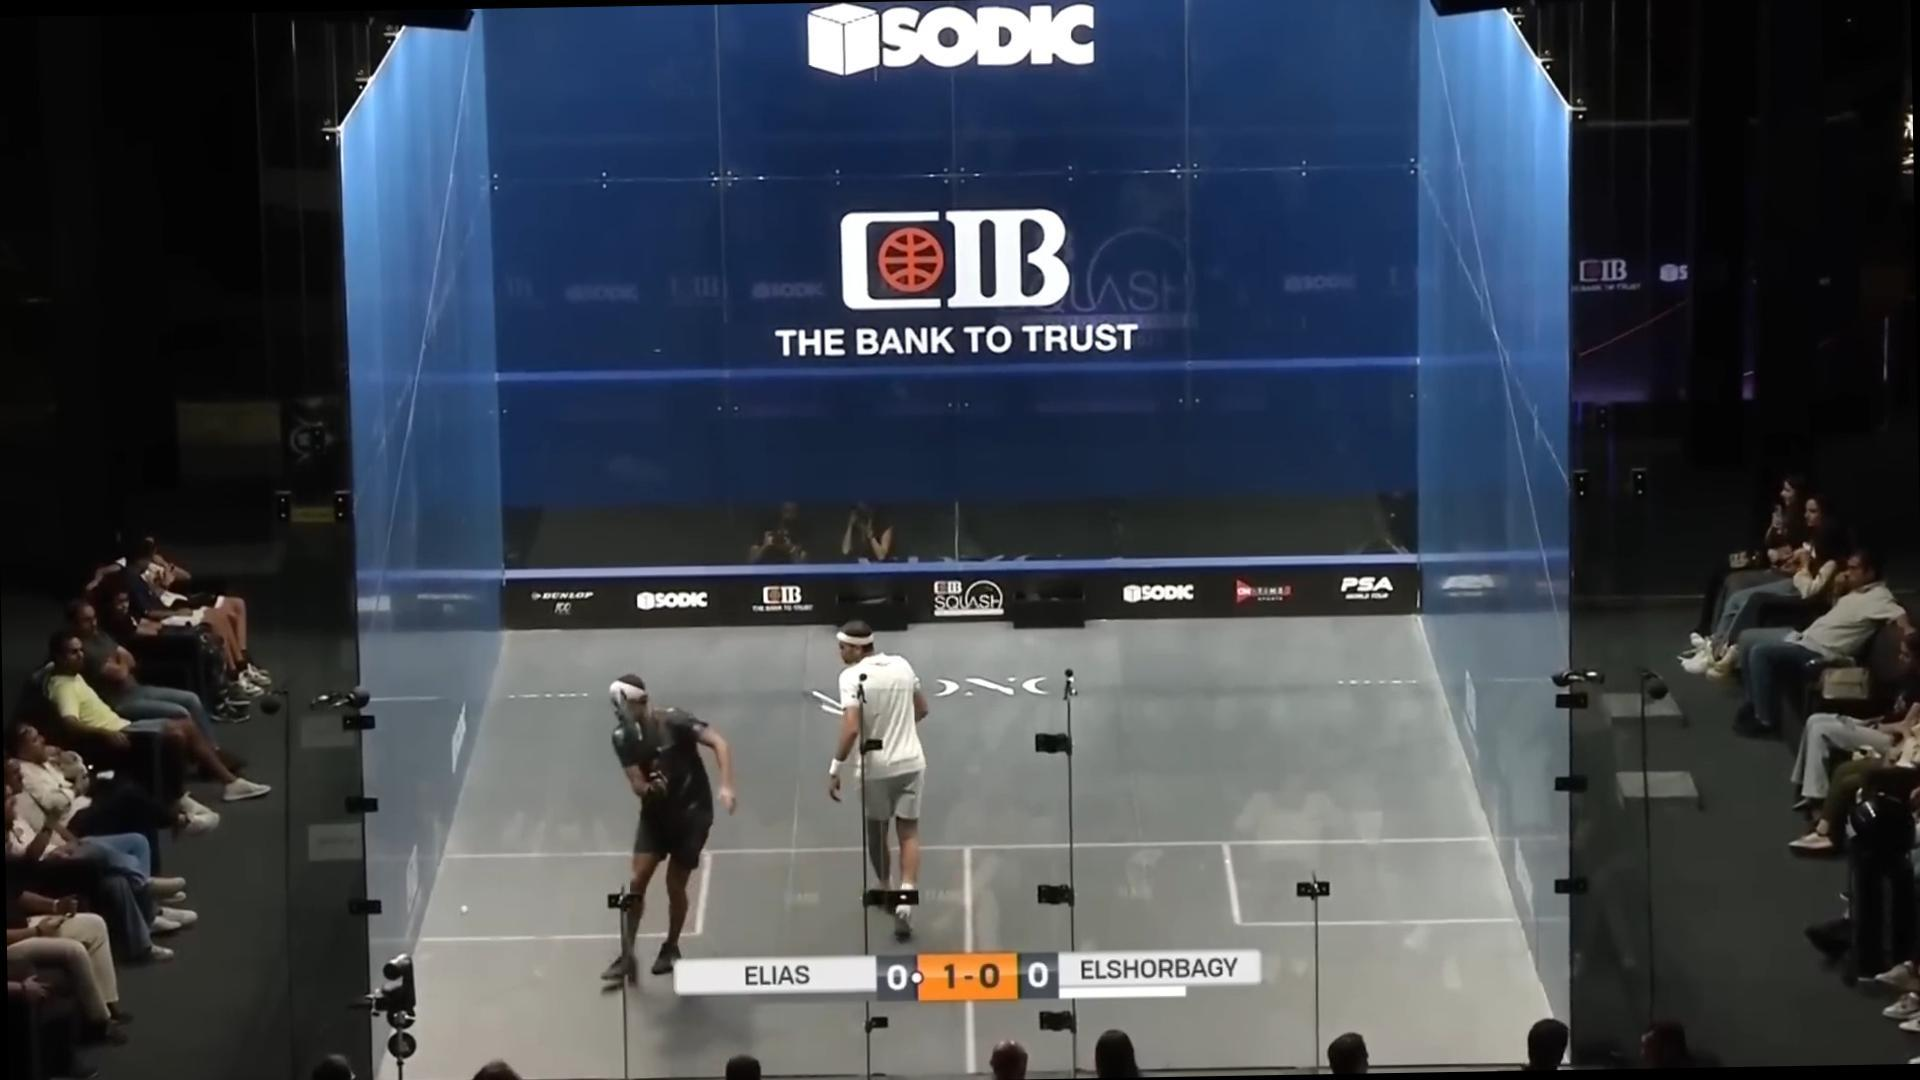Squash-Ball: (458, 897, 473, 920)
